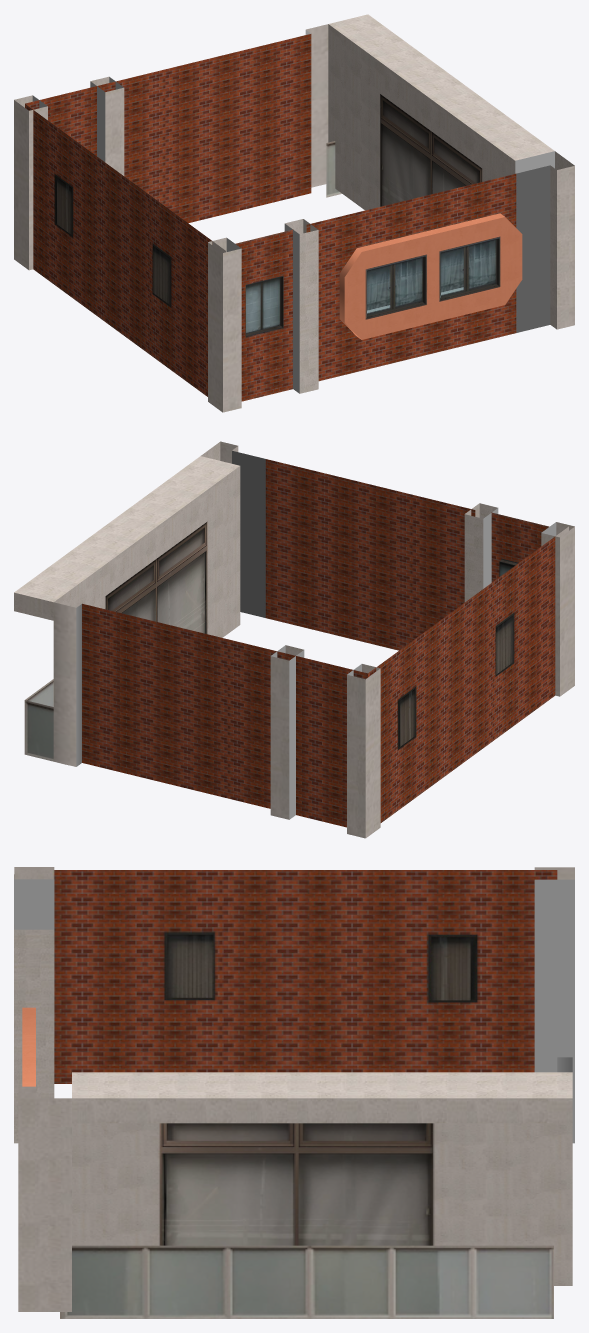
The model's file is building01_2f_02.fbx.
3 renders of one model, top to bottom at view 1: azimuth 30°, elevation 25°; view 2: azimuth 150°, elevation 25°; view 3: azimuth 270°, elevation 25°, orthographic. The views are drawn at different scales.
Visible parts, largest first — view 1: polySurface9, polySurface10, polySurface7, huti2lf, huti2rf, huti2lb, huti2rb, pPlane1; view 2: polySurface9, polySurface7, huti2lb, huti2rb, huti2lf, huti2rf, pPlane1; view 3: polySurface9, pPlane1, polySurface7, huti2rf, huti2rb, huti2lb, huti2lf, polySurface10.
Part boxes in pixels (box(x1,y1,x2,y2)): polySurface9: box(25, 24, 574, 401); polySurface10: box(339, 213, 522, 339); polySurface7: box(329, 14, 554, 160); huti2lf: box(208, 237, 241, 412); huti2rf: box(284, 219, 318, 393); huti2lb: box(14, 95, 47, 270); huti2rb: box(90, 76, 124, 175); pPlane1: box(326, 141, 341, 197); polySurface9: box(53, 441, 568, 827); polySurface7: box(14, 456, 239, 620); huti2lb: box(347, 664, 380, 838); huti2rb: box(270, 645, 304, 819); huti2lf: box(541, 522, 574, 696); huti2rf: box(464, 503, 498, 602); pPlane1: box(24, 679, 68, 765); polySurface9: box(18, 870, 572, 1311); pPlane1: box(60, 1245, 553, 1318); polySurface7: box(72, 1072, 572, 1123); huti2rf: box(14, 917, 54, 1143); huti2rb: box(534, 917, 574, 1143); huti2lb: box(534, 867, 574, 917); huti2lf: box(14, 867, 54, 924); polySurface10: box(22, 1007, 35, 1086).
Bounding box in the file's own units: 812 × 365 × 832.
